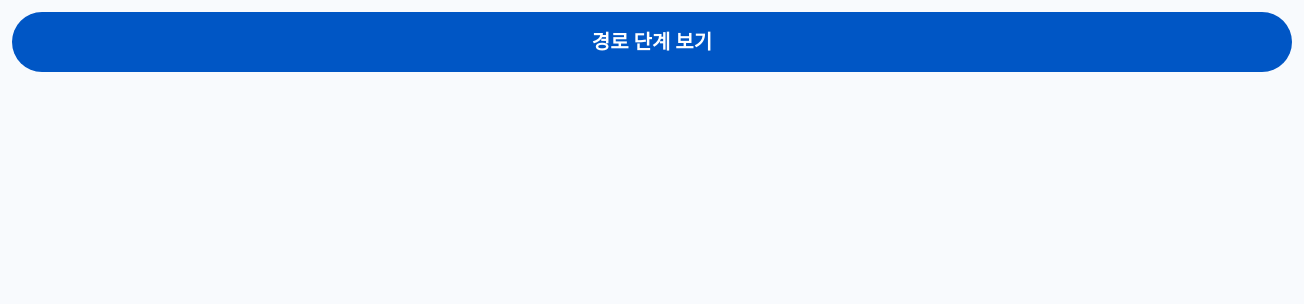
Test: previews in Korean, replays the current text and respects separate output toggles
Later steps or results of the test are not shown.
Click the button "경로 단계 보기" at (652, 42), box [12,12,1292,72]
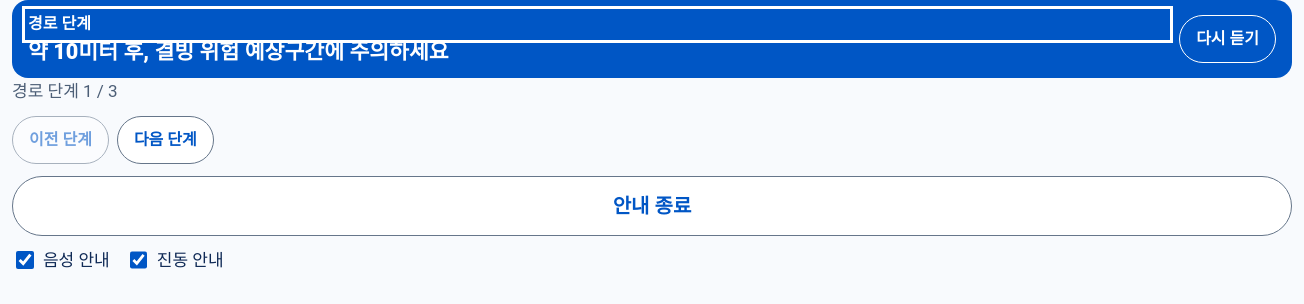
Click the button "다시 듣기" at (1228, 39), box [1179,15,1276,63]
Click the checkbox labelled "음성 안내" at (25, 260), box [16,252,34,269]
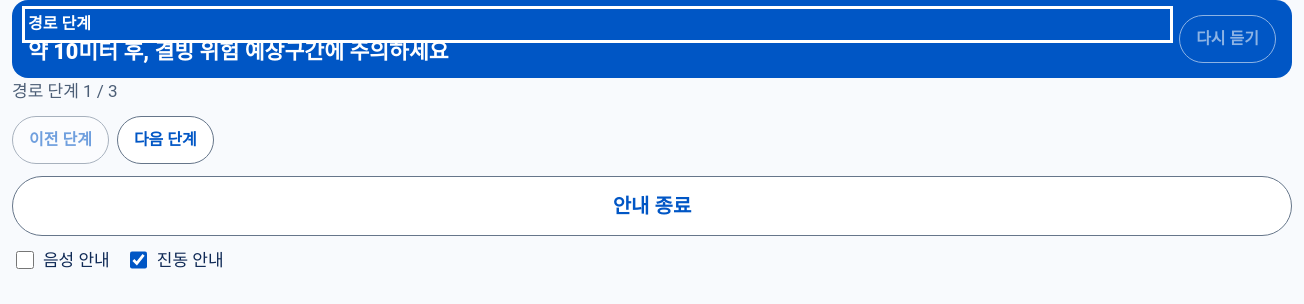
Click the button "다음 단계" at (165, 140), box [117,116,214,164]
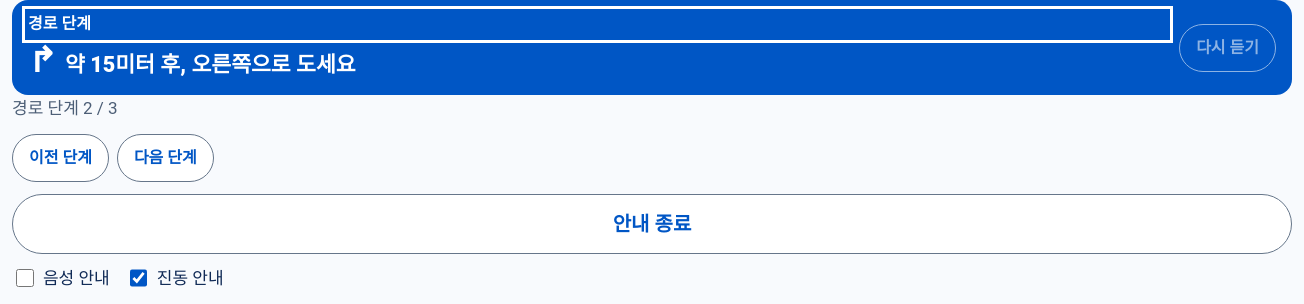
Check: the text "↱ 약 15미터 후, 오른쪽으로 도세요" is shown, box [28,40,356,80]
